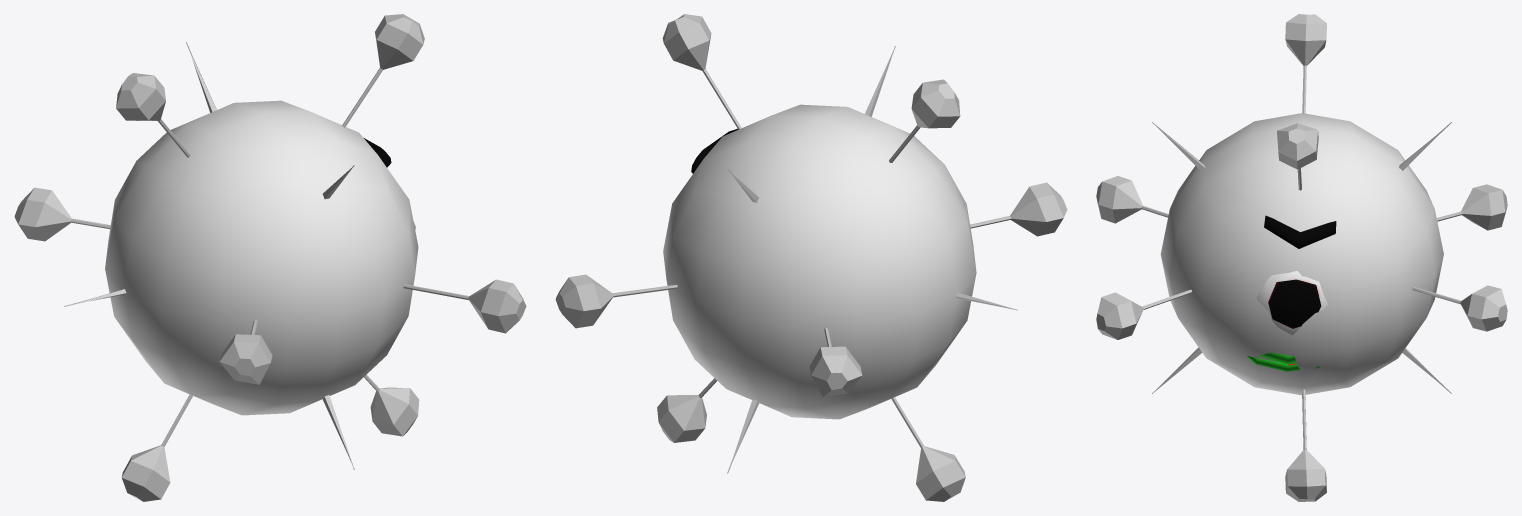
File: 04_001_anim.fbx
The picture shows the model from 3 angles, left to right: view 1: azimuth 30°, elevation 25°; view 2: azimuth 150°, elevation 25°; view 3: azimuth 270°, elevation 25°; orthographic projection. The views are drawn at different scales.
Parts seen in each view (by area): view 1: Roundcube.002, GD_mesh; view 2: Roundcube.002, GD_mesh; view 3: Roundcube.002, GD_mesh, 03_red_1eye.001.
Boxes of the visible parts, box(x1,y1,x2,y2) form: Roundcube.002: box(105, 100, 418, 415); GD_mesh: box(14, 14, 526, 501); Roundcube.002: box(663, 104, 976, 419); GD_mesh: box(555, 14, 1067, 501); Roundcube.002: box(1160, 113, 1443, 395); GD_mesh: box(1096, 14, 1507, 501); 03_red_1eye.001: box(1247, 215, 1336, 371).
Size of the model in its own units: 272 by 304 by 304.
